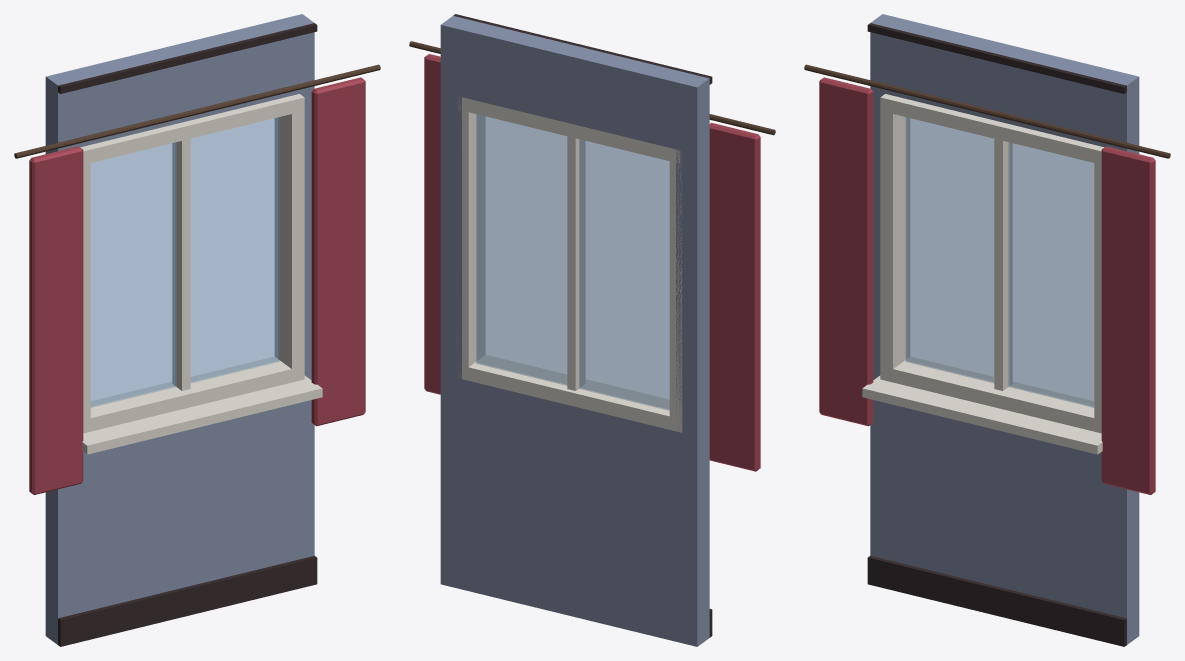
The model's file is wall_window.fbx.
3 renders of one model, left to right at view 1: azimuth 30°, elevation 25°; view 2: azimuth 150°, elevation 25°; view 3: azimuth 330°, elevation 25°, orthographic.
Visible parts, largest first — view 1: wall_window, curtain_l, curtain_r; view 2: wall_window, curtain_l, curtain_r; view 3: wall_window, curtain_r, curtain_l.
Part boxes in pixels (x1=…): wall_window: x1=14, y1=14, x2=380, y2=646; curtain_l: x1=29, y1=146, x2=83, y2=494; curtain_r: x1=311, y1=77, x2=365, y2=426; wall_window: x1=409, y1=14, x2=775, y2=646; curtain_l: x1=709, y1=123, x2=760, y2=471; curtain_r: x1=424, y1=54, x2=440, y2=394; wall_window: x1=804, y1=14, x2=1170, y2=646; curtain_r: x1=1101, y1=146, x2=1155, y2=494; curtain_l: x1=819, y1=77, x2=873, y2=426.
Bounding box in the file's own units: 1.7 × 2.5 × 0.25.
